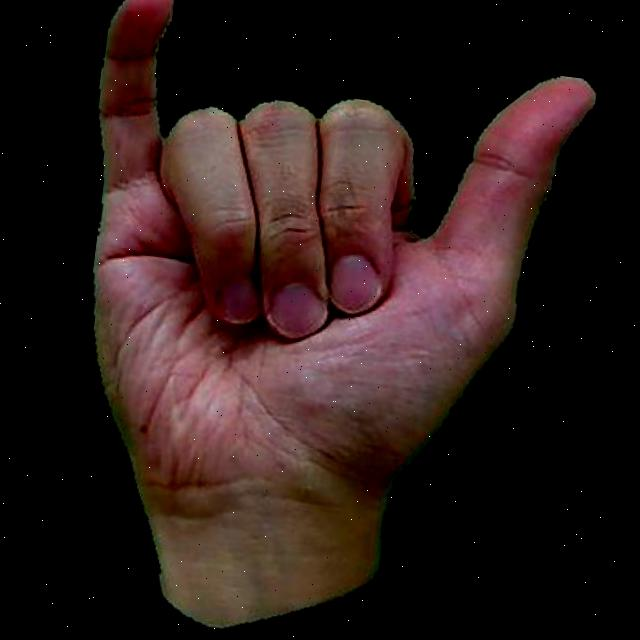y: (11, 0, 622, 640)
